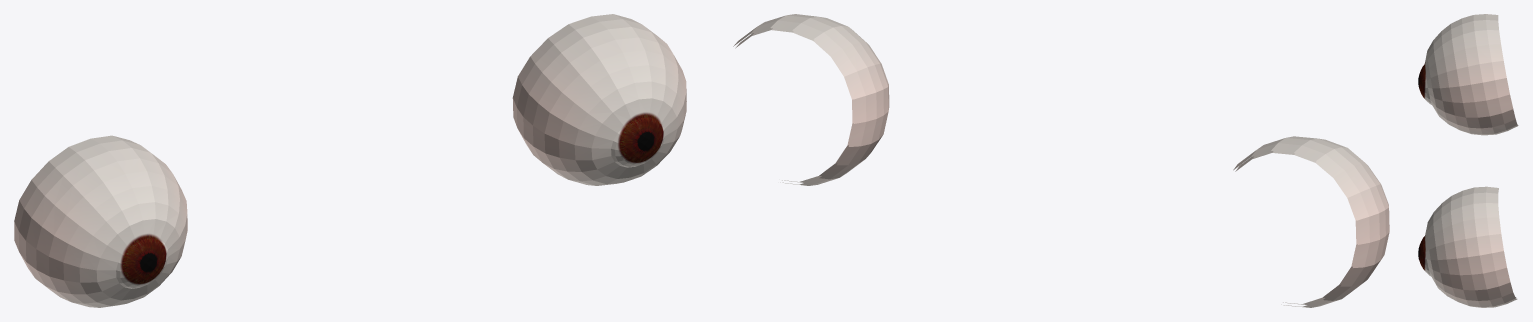
The model's file is aiva-parts-mh.glb.
The picture shows the model from 3 angles, left to right: view 1: azimuth 30°, elevation 25°; view 2: azimuth 150°, elevation 25°; view 3: azimuth 270°, elevation 25°; orthographic projection. The views are drawn at different scales.
Parts seen in each view (by area): view 1: EyePosX_node, EyeNegX_node; view 2: EyePosX_node, EyeNegX_node; view 3: EyeNegX_node, EyePosX_node.
Part boxes in pixels (left/top/right/bottom): EyePosX_node: left=512, top=14, right=686, bottom=185; EyeNegX_node: left=14, top=135, right=187, bottom=307; EyePosX_node: left=733, top=14, right=889, bottom=185; EyeNegX_node: left=1233, top=136, right=1389, bottom=307; EyeNegX_node: left=1418, top=14, right=1518, bottom=135; EyePosX_node: left=1418, top=186, right=1517, bottom=307.
Bounding box in the file's own units: 0.0822 × 0.0186 × 0.0155.
1 material, 1 textured.
